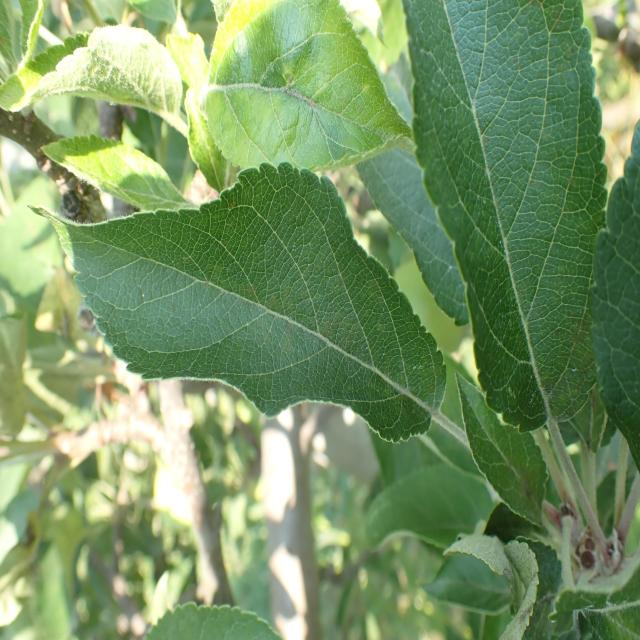scab: (103, 194, 430, 443), (442, 90, 568, 433), (198, 46, 351, 158)
